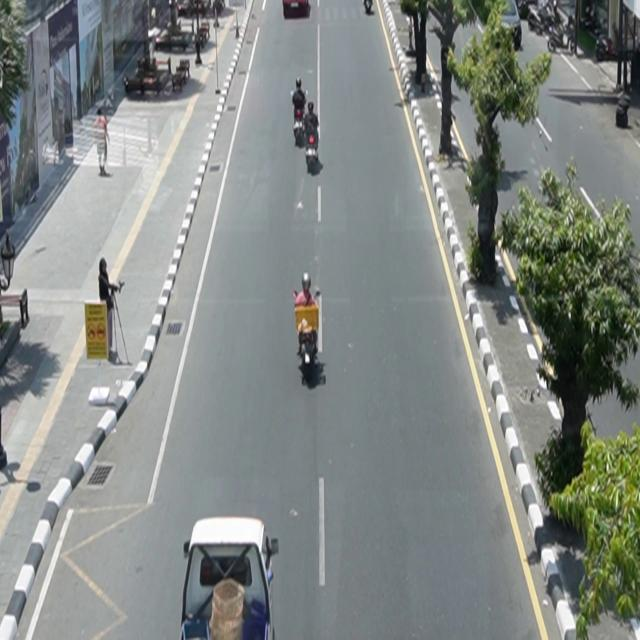car: (180, 517, 280, 640), (283, 1, 311, 19)
